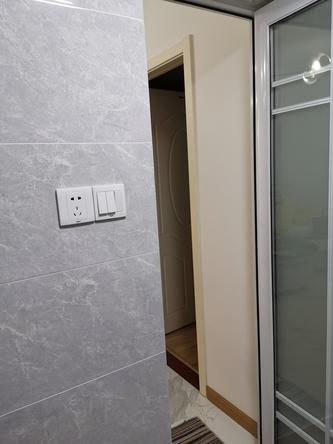switch: (105, 188, 119, 216), (95, 189, 109, 216), (112, 189, 127, 214)
